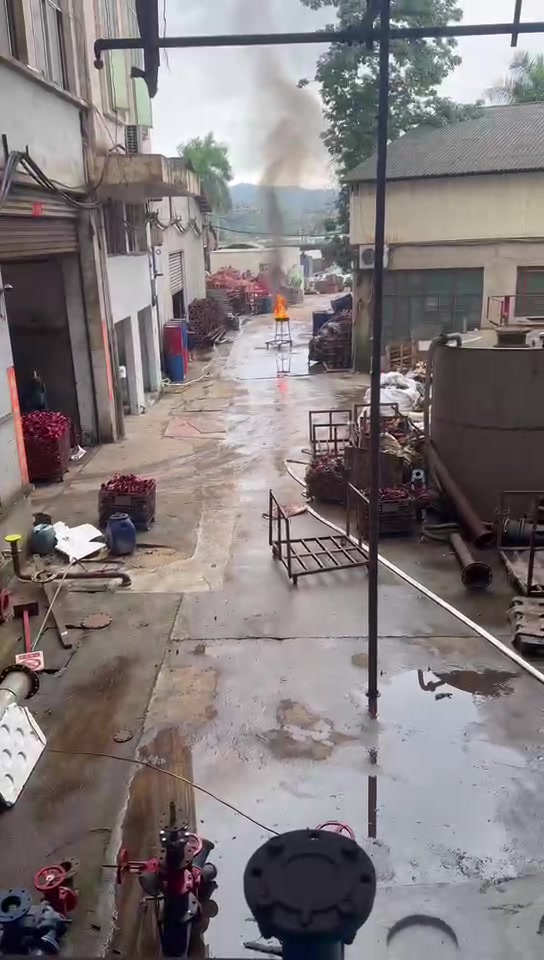fire: (272, 291, 288, 318)
